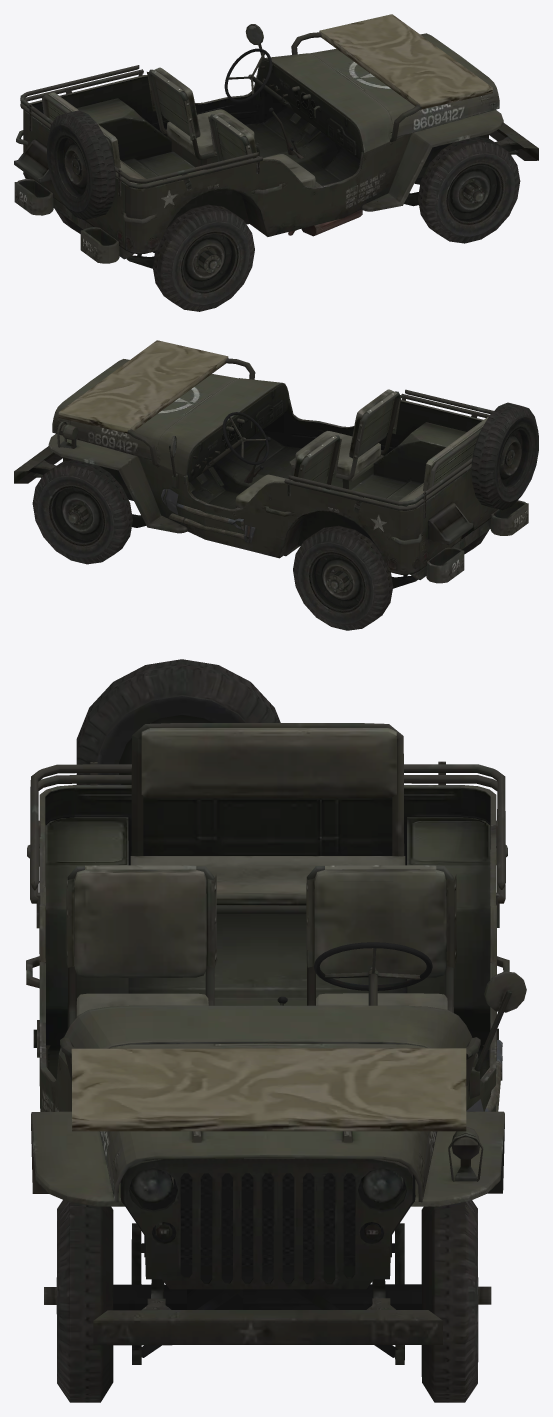
File: willys-mb-jeep.glb
3 views of the same model, one above another, from view 1: azimuth 30°, elevation 25°; view 2: azimuth 150°, elevation 25°; view 3: azimuth 270°, elevation 25° (orthographic). The views are drawn at different scales.
Parts seen in each view (by area): view 1: ShovelandAxe_1.Jeep_0, ShovelandAxe_Roof and Gear_0, WheelFR, WheelRR, ShovelandAxe_Tires_0, SteeringWheel; view 2: ShovelandAxe_1.Jeep_0, ShovelandAxe_Roof and Gear_0, WheelFL, WheelRL, ShovelandAxe_Tires_0, SteeringWheel; view 3: ShovelandAxe_1.Jeep_0, ShovelandAxe_Roof and Gear_0, ShovelandAxe_Tires_0, WheelFR, WheelFL, SteeringWheel.
Part boxes in pixels (x1,y1,x2,y2): ShovelandAxe_1.Jeep_0: [14, 24, 538, 268]; ShovelandAxe_Roof and Gear_0: [20, 14, 492, 196]; WheelFR: [418, 137, 520, 243]; WheelRR: [152, 204, 254, 311]; ShovelandAxe_Tires_0: [47, 110, 115, 220]; SteeringWheel: [224, 48, 272, 102]; ShovelandAxe_1.Jeep_0: [14, 359, 528, 588]; ShovelandAxe_Roof and Gear_0: [58, 340, 493, 542]; WheelFL: [32, 460, 132, 564]; WheelRL: [293, 525, 393, 630]; ShovelandAxe_Tires_0: [471, 402, 538, 510]; SteeringWheel: [222, 412, 268, 464]; ShovelandAxe_1.Jeep_0: [26, 723, 526, 1364]; ShovelandAxe_Roof and Gear_0: [30, 761, 505, 1131]; ShovelandAxe_Tires_0: [76, 659, 280, 784]; WheelFR: [44, 1200, 113, 1402]; WheelFL: [421, 1200, 491, 1402]; SteeringWheel: [313, 942, 432, 990].
Bounding box in the file's own units: 3.38 × 1.4 × 1.67.
3 materials, 3 textured.
